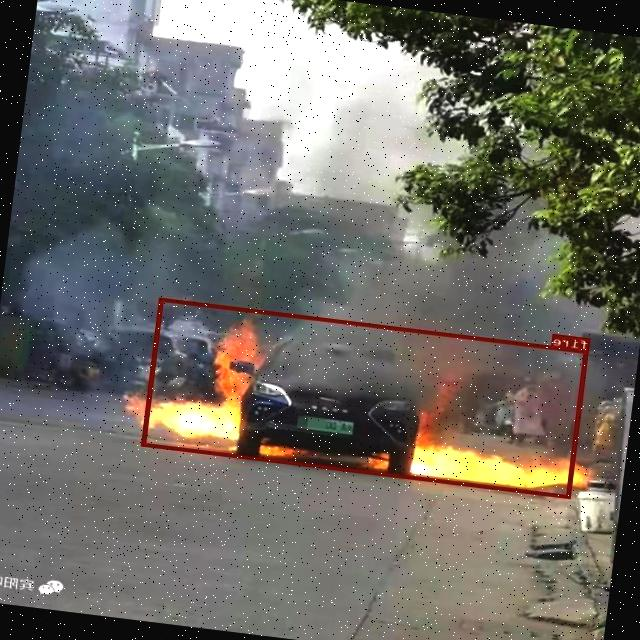fire: (142, 297, 589, 498)
